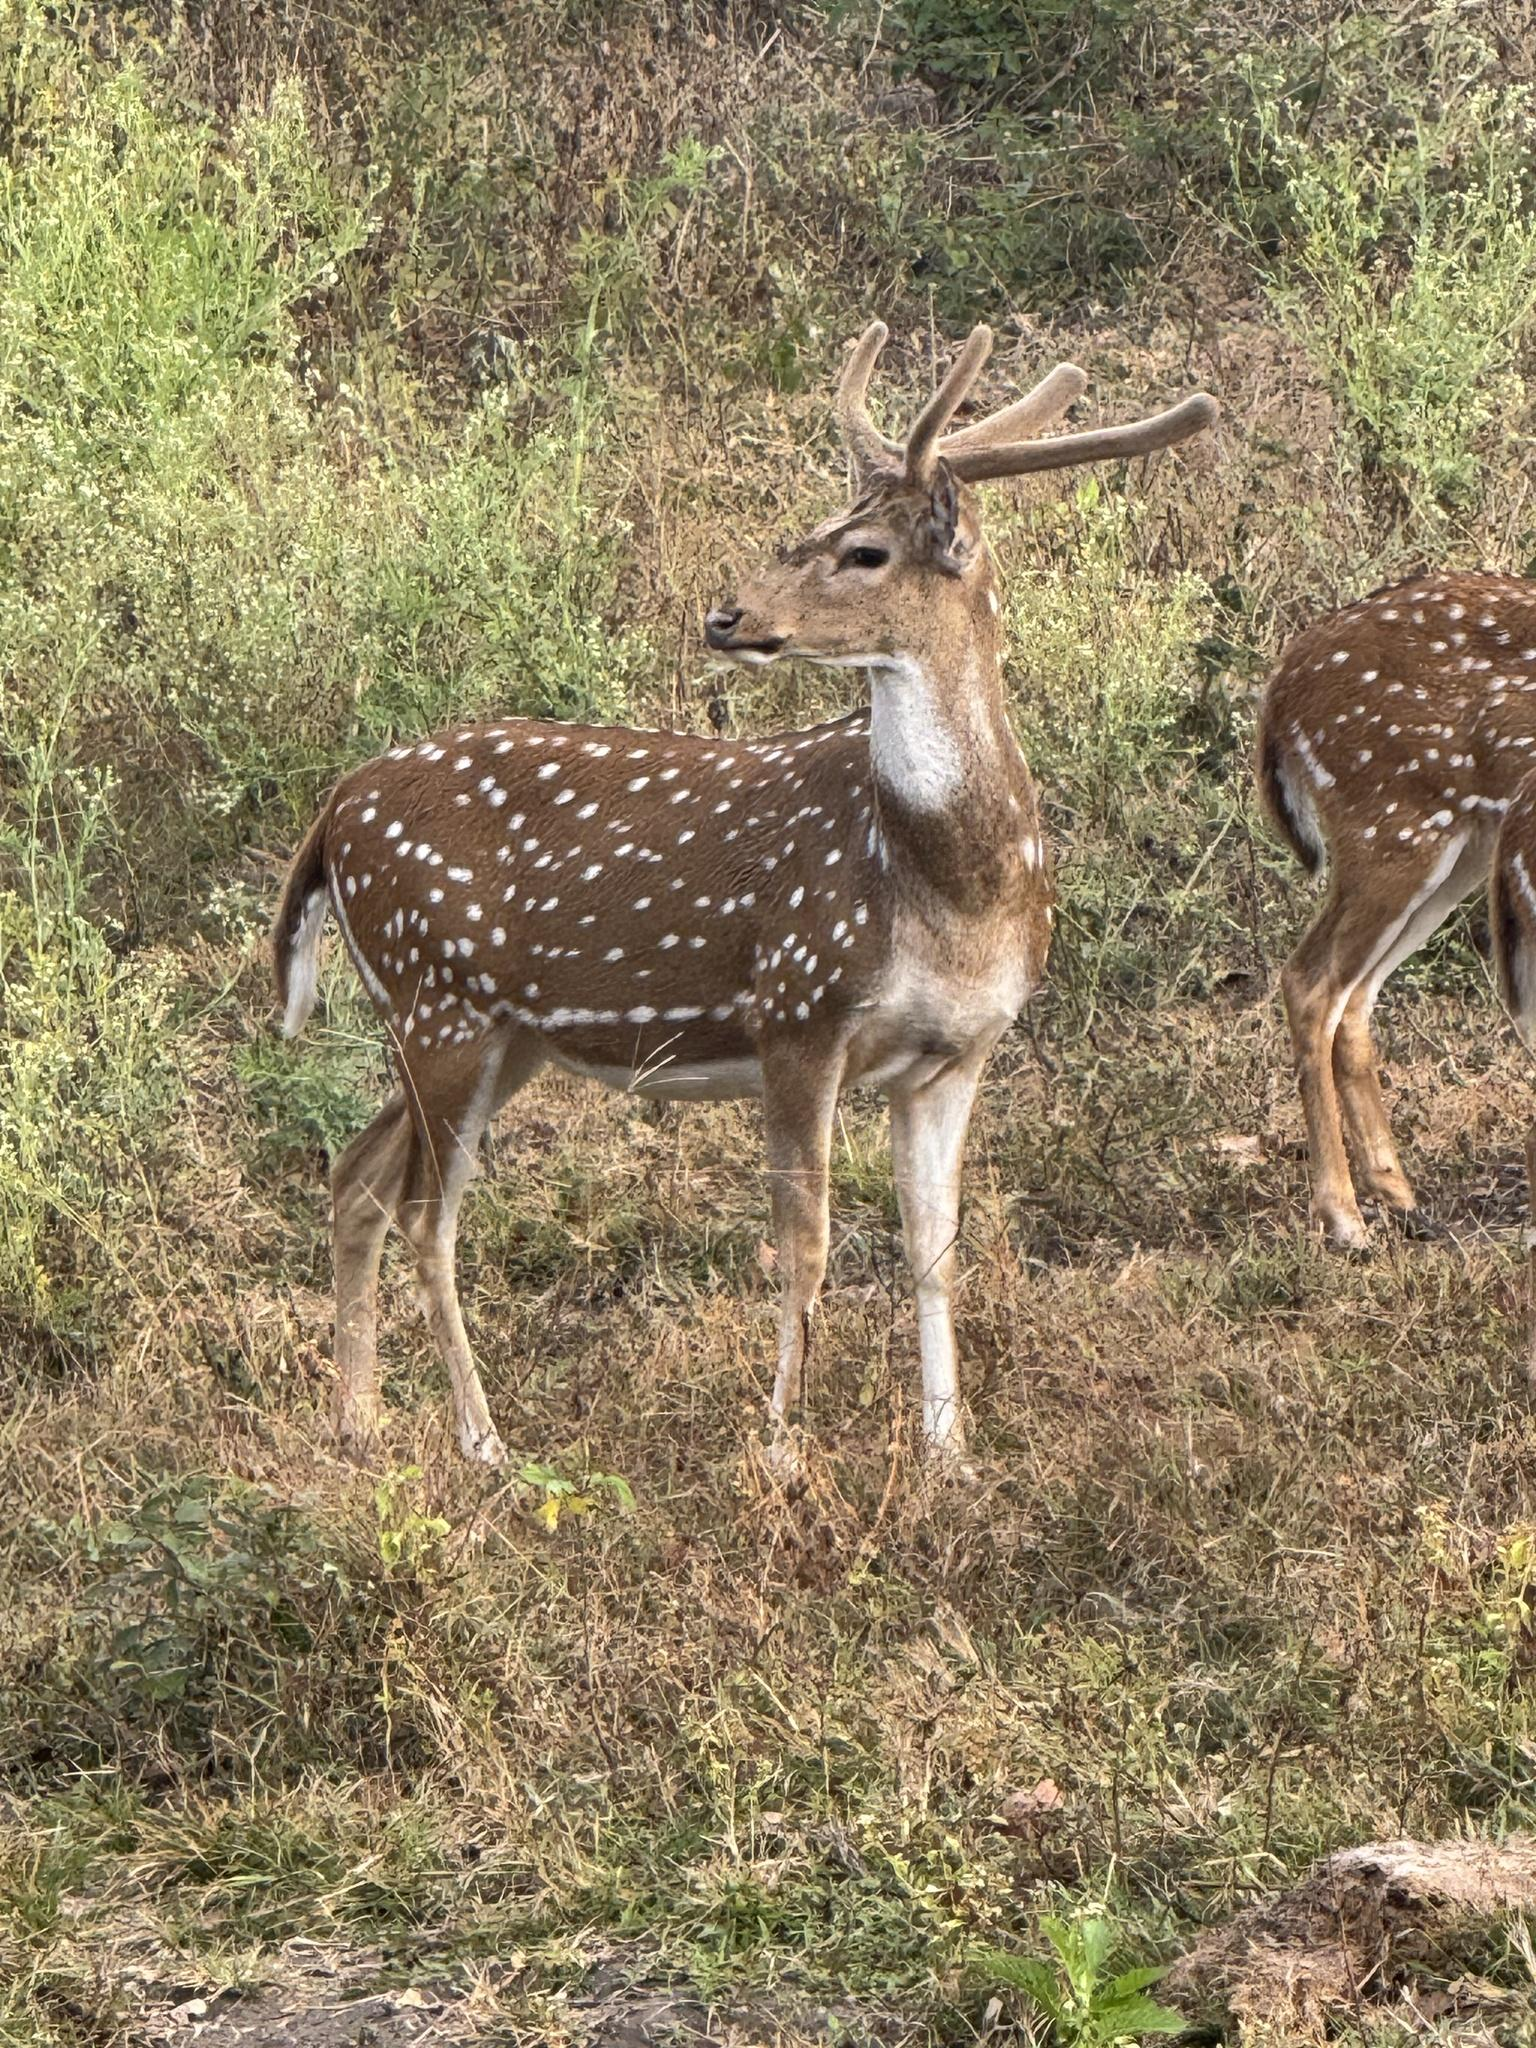Deer: (273, 323, 1213, 1464), (1255, 572, 1534, 1250)
